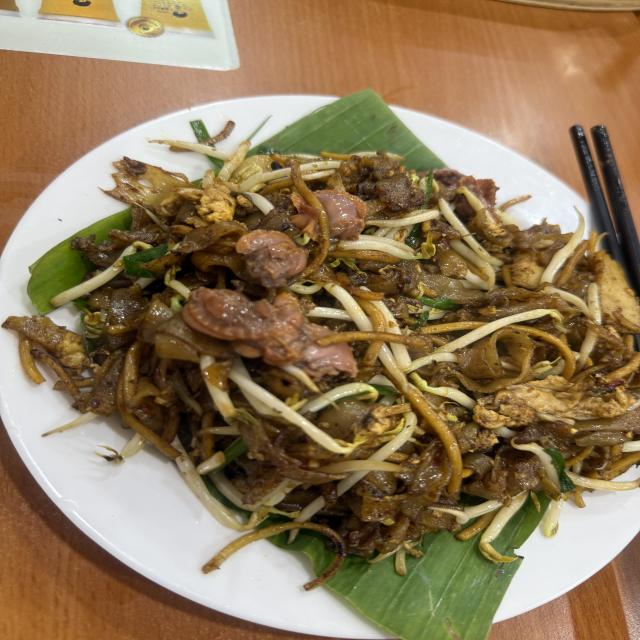Char Kway Teow: (55, 101, 611, 581)
